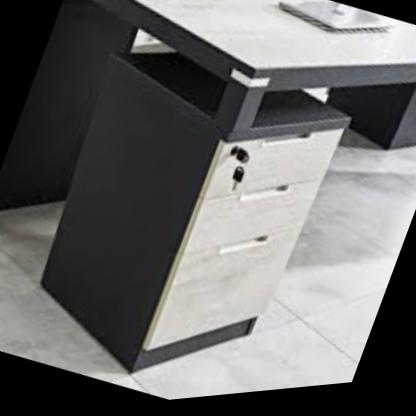Cabinet: (7, 33, 350, 415)
